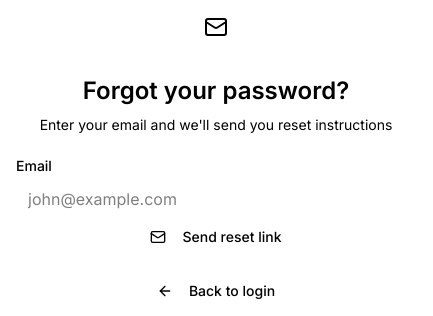
it: ForgotPasswordForm › shows a token-styled success chip after submitting
This screenshot has width=433, height=316.
Type "j@example.com" into the field labelled "Email" at x=216, y=199, box [16,181,416,217]
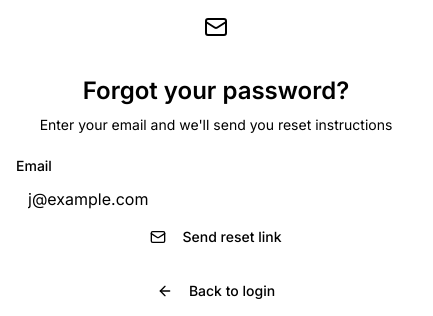
Click the button "Send reset link" at x=216, y=237, box [16,217,416,257]
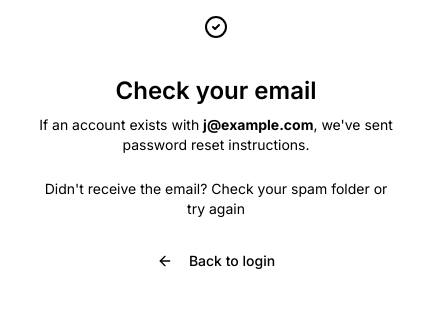
Result: the text "Check your email" is shown at [116,76,316,105]
